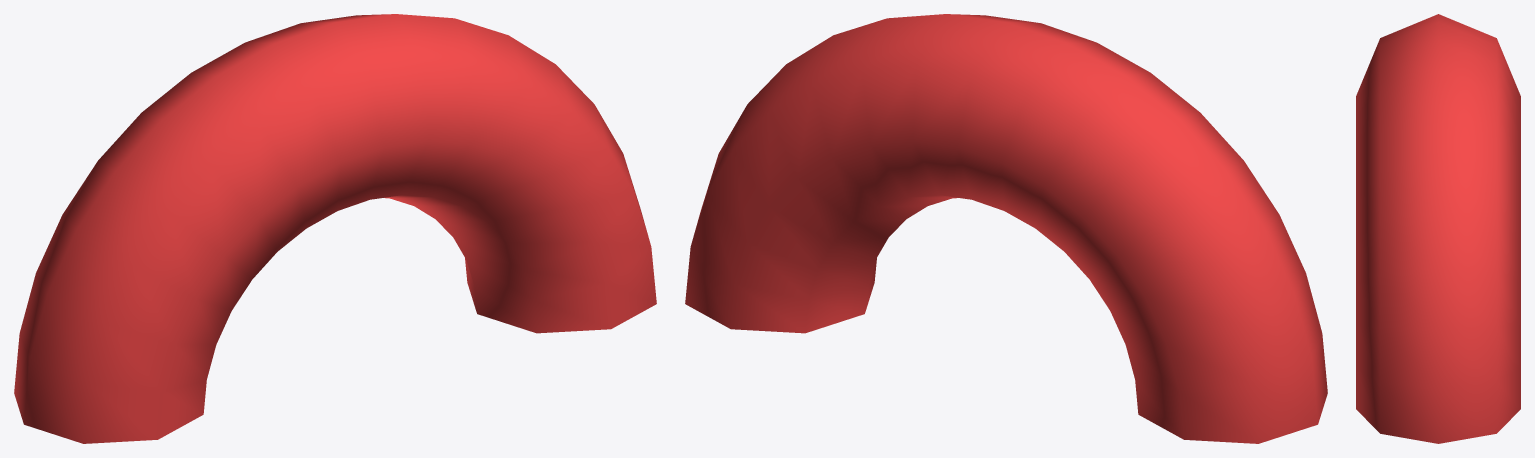
File: powerup_magnet.glb
The picture shows the model from 3 angles, left to right: view 1: azimuth 30°, elevation 25°; view 2: azimuth 150°, elevation 25°; view 3: azimuth 270°, elevation 25°; orthographic projection. The views are drawn at different scales.
Size of the model in its own units: 1.1 by 0.55 by 0.3.
